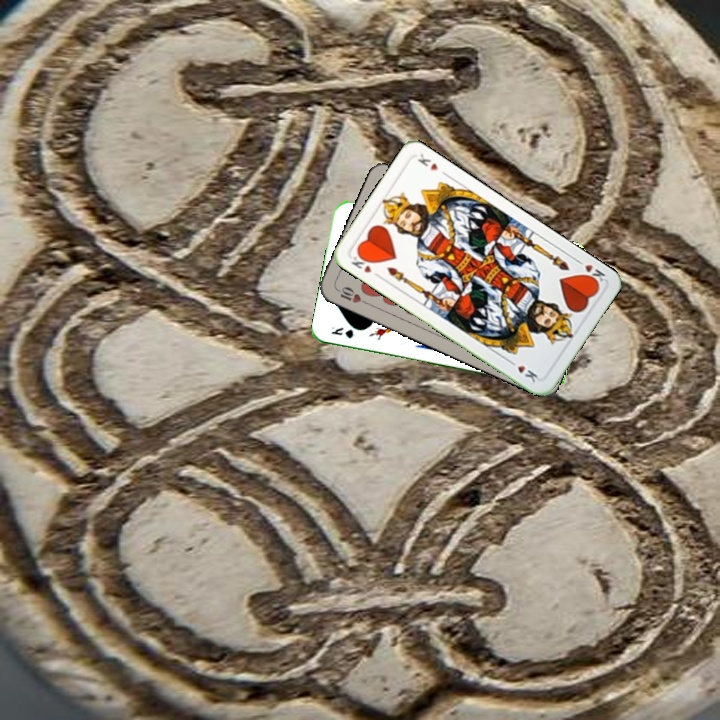GK: (327, 322, 356, 341)
H10: (333, 282, 371, 307)
HK: (572, 255, 608, 288), (347, 249, 383, 281)
